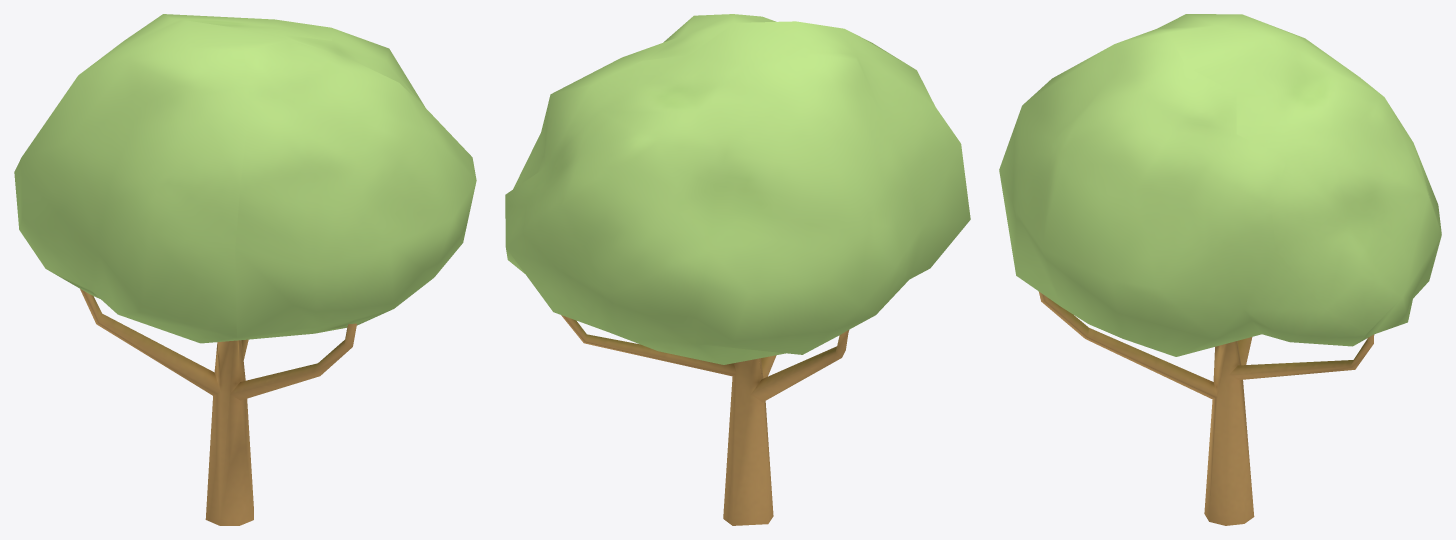
3 views of the same model, side by side, from view 1: azimuth 30°, elevation 25°; view 2: azimuth 150°, elevation 25°; view 3: azimuth 270°, elevation 25° (orthographic). The views are drawn at different scales.
Parts seen in each view (by area): view 1: Big tree.002; view 2: Big tree.002; view 3: Big tree.002.
Part boxes in pixels (x1,y1,x2,y2): Big tree.002: (14,14,476,525); Big tree.002: (505,14,970,525); Big tree.002: (999,14,1441,525).
Bounding box in the file's own units: 16.17 × 19.71 × 16.67.
1 material, 1 textured.
